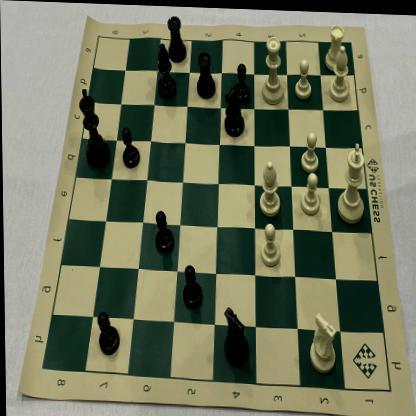black-bishop: (154, 40, 176, 100)
black-king: (75, 84, 112, 175)
black-knight: (219, 301, 252, 370), (219, 79, 247, 139)
black-pawn: (93, 306, 121, 357), (179, 259, 204, 310), (153, 207, 176, 256), (119, 125, 141, 171), (232, 58, 252, 105)
black-rook: (193, 44, 219, 101), (165, 11, 189, 65)
white-bishop: (254, 155, 283, 219), (328, 40, 354, 104)
white-king: (331, 132, 369, 227)
white-knight: (305, 304, 342, 376)
white-pawn: (256, 219, 283, 270), (299, 166, 323, 218), (298, 127, 322, 174), (293, 52, 314, 103)
white-queen: (257, 29, 287, 107)
white-rook: (320, 17, 349, 72), (320, 17, 349, 72)
